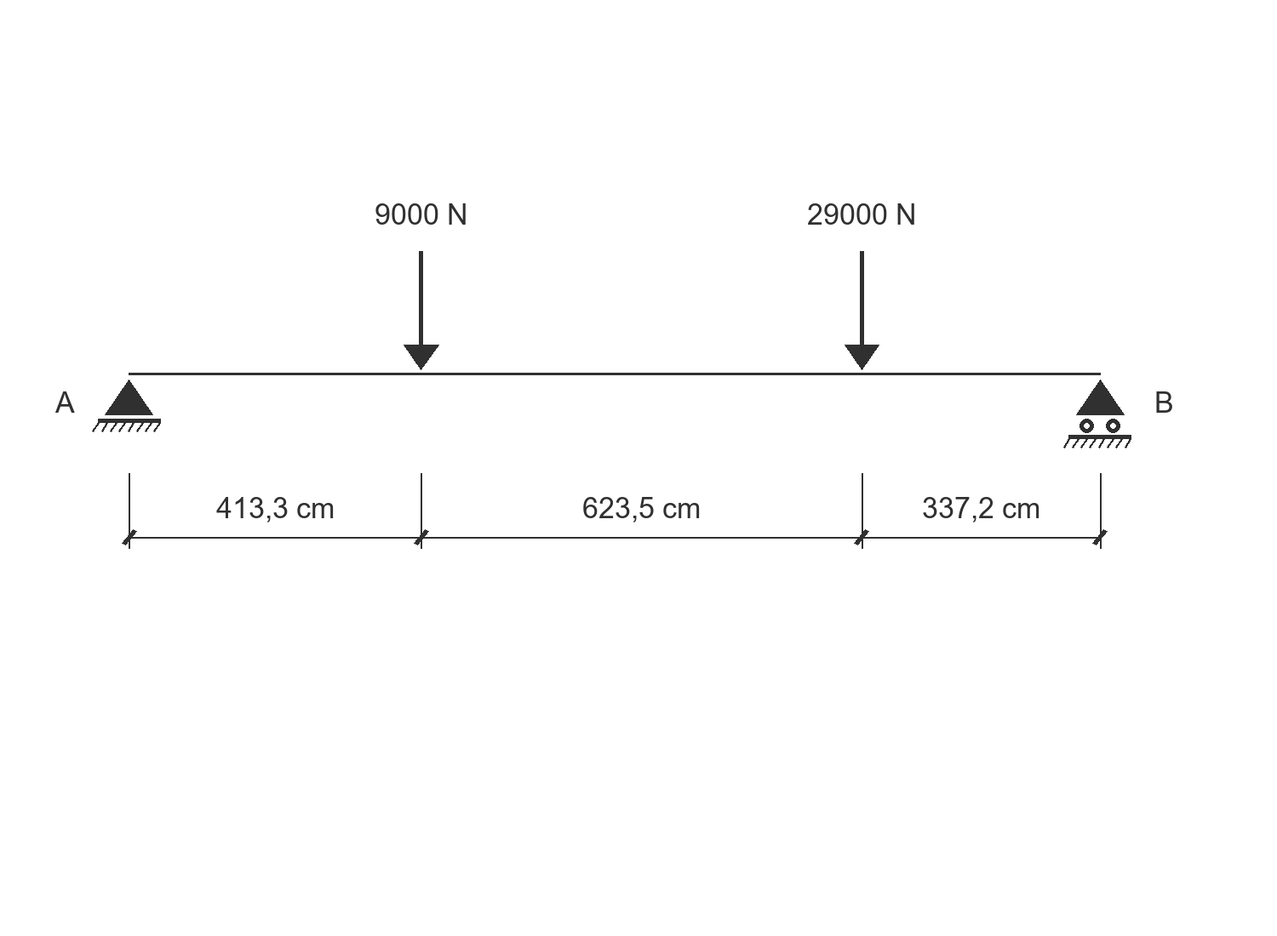pin_support: (92, 380, 161, 432)
point_load: (404, 251, 439, 370), (845, 251, 879, 370)
roller_support: (1063, 380, 1131, 448)
